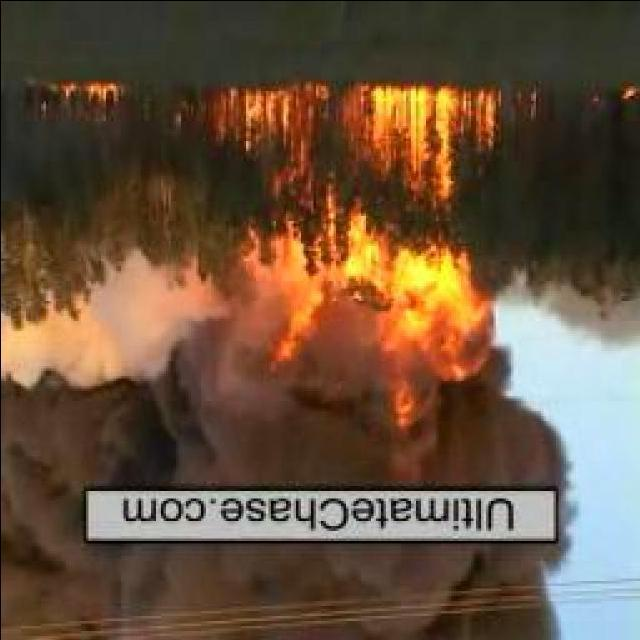Fire: (208, 84, 490, 429), (42, 78, 124, 122)
